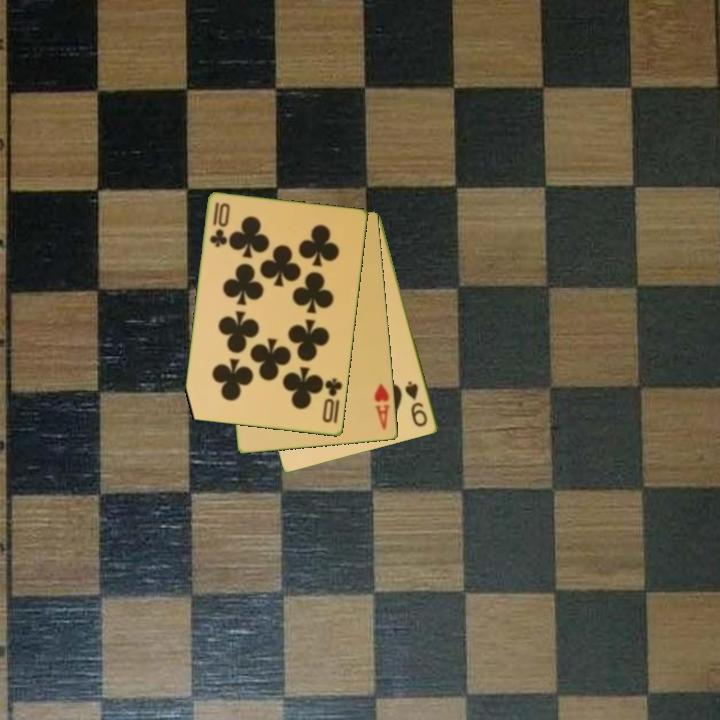10c: (206, 199, 233, 250), (319, 375, 345, 426)
9s: (402, 378, 431, 430)
Ah: (371, 380, 393, 433)
